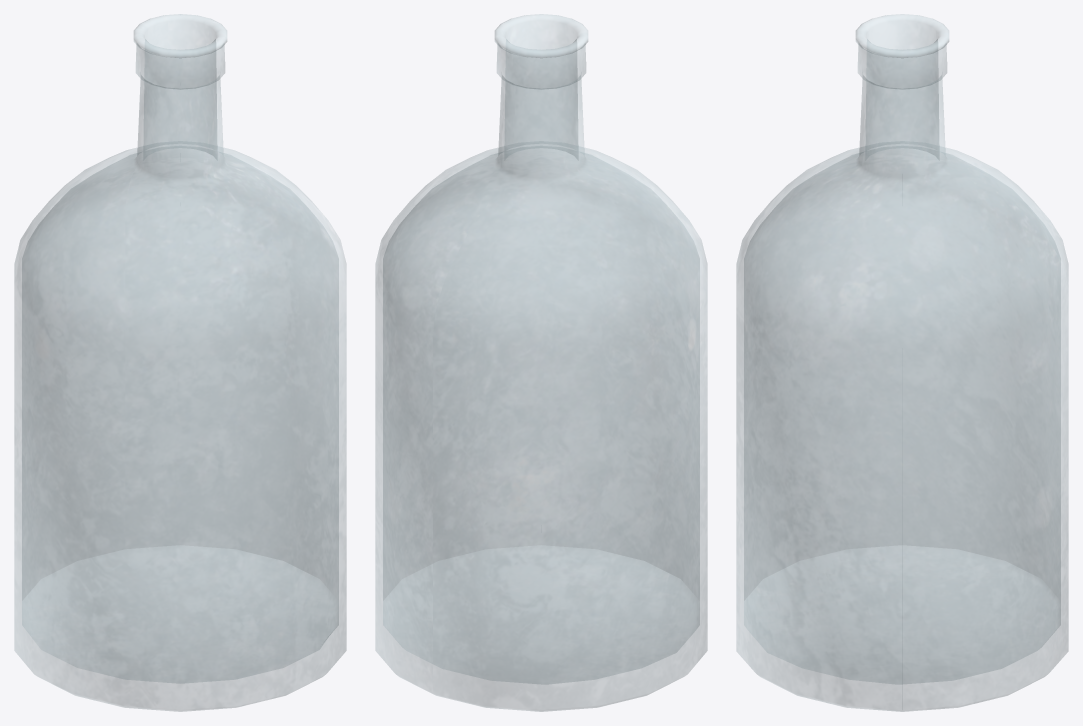
Rendered from bottle.gltf.
3 renders of one model, left to right at view 1: azimuth 30°, elevation 25°; view 2: azimuth 150°, elevation 25°; view 3: azimuth 270°, elevation 25°, orthographic.
Parts seen in each view (by area): view 1: SM_Bottle; view 2: SM_Bottle; view 3: SM_Bottle.
Part boxes in pixels (x1,y1,x2,y2): SM_Bottle: (14,14,346,711); SM_Bottle: (375,14,707,711); SM_Bottle: (736,14,1068,711).
Bounding box in the file's own units: 0.097 × 0.1934 × 0.0955.
Materials: 1 (1 with a texture image).
